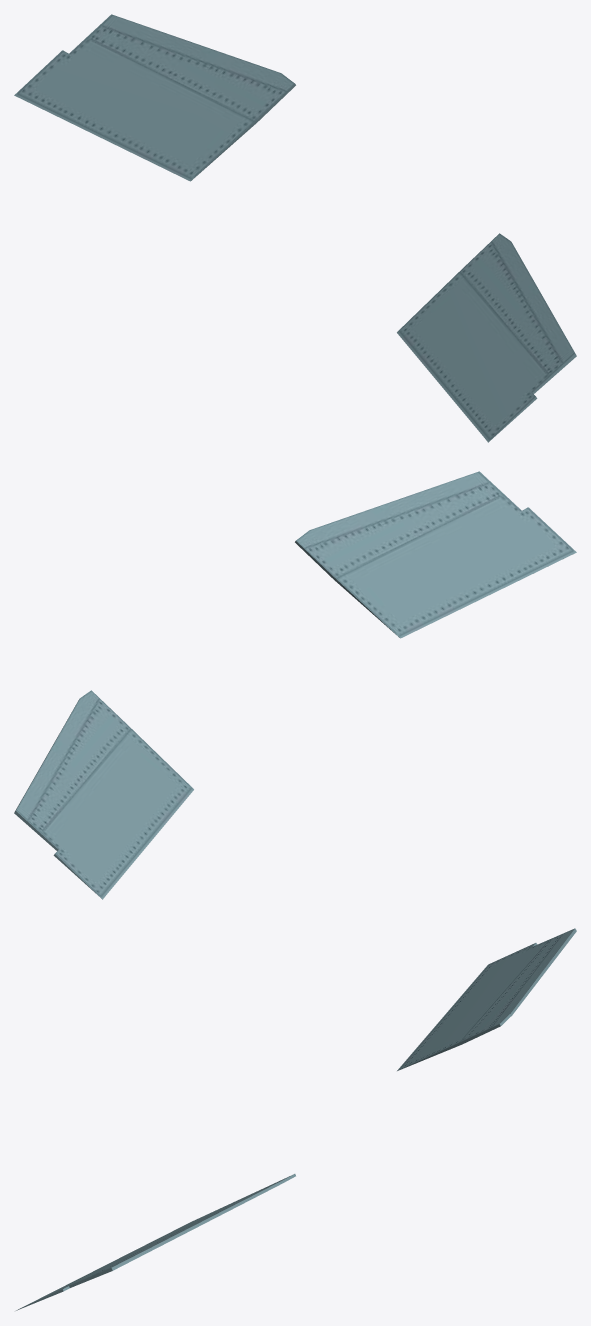
The model's file is mig25flapsdown.glb.
The picture shows the model from 3 angles, top to bottom: view 1: azimuth 30°, elevation 25°; view 2: azimuth 150°, elevation 25°; view 3: azimuth 330°, elevation 25°; orthographic projection.
Visible parts, largest first — view 1: Object12-FACES (×2); view 2: Object12-FACES (×2); view 3: Object12-FACES (×2).
Part boxes in pixels (box(x1,y1,x2,y2)): Object12-FACES (×2): box(14, 14, 576, 442); Object12-FACES (×2): box(14, 471, 576, 899); Object12-FACES (×2): box(16, 928, 576, 1310).
Bounding box in the file's own units: 1.38 × 0.6843 × 7.69.
1 material, 1 textured.
